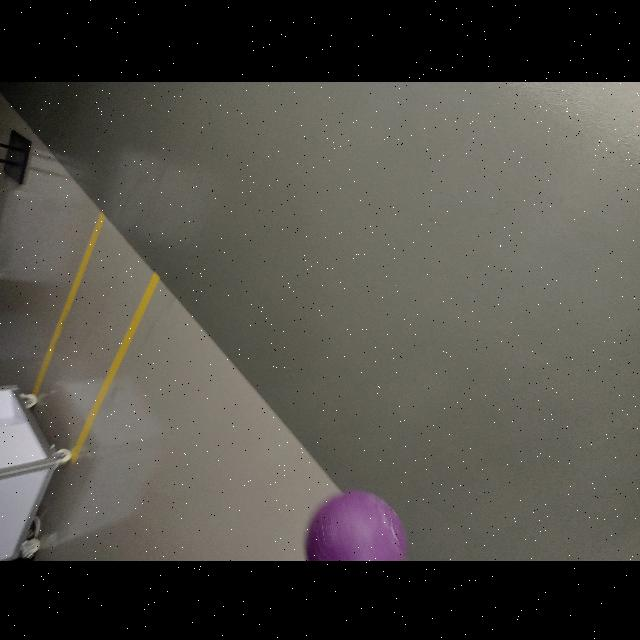P: (304, 489, 406, 559)
